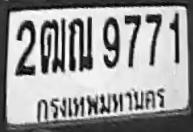1: (168, 13, 180, 64)
2: (14, 20, 36, 76)
7: (124, 14, 141, 67), (145, 13, 161, 66)
9: (102, 16, 120, 68)
A18: (40, 18, 66, 73)
A19: (68, 16, 93, 71)
BKK: (31, 83, 171, 125)
